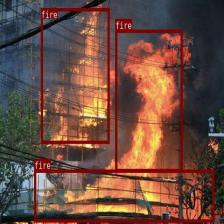fire: (34, 169, 214, 222), (115, 30, 182, 172), (41, 7, 109, 142)
